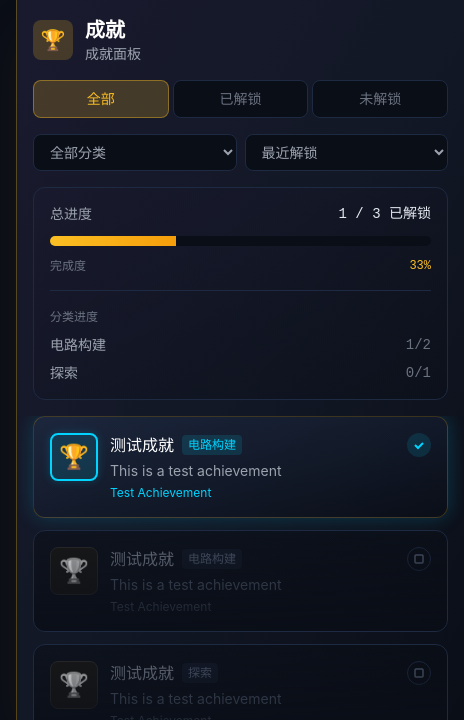
AchievementPanel Component › AC-181-004: Achievement statistics display correctly › statistics update when filter selection changes
The image size is (464, 720).
Expected: the text with test id "achievement-stats-total" reads "1 / 3 已解锁", x1=339 y1=204 x2=431 y2=224
// Select circuit-building category
Select "电路构建" in the dropdown with test id "achievement-category-filter" at (135, 152), box x1=33 y1=134 x2=236 y2=171
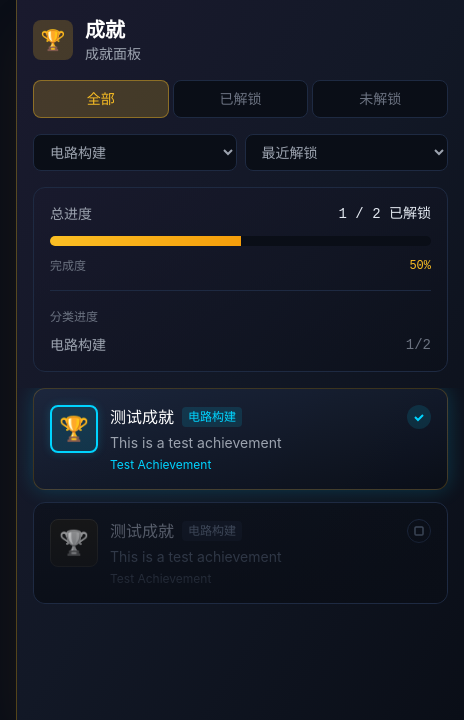
Result: the text with test id "achievement-stats-total" reads "1 / 2 已解锁" at x1=339 y1=204 x2=431 y2=224
